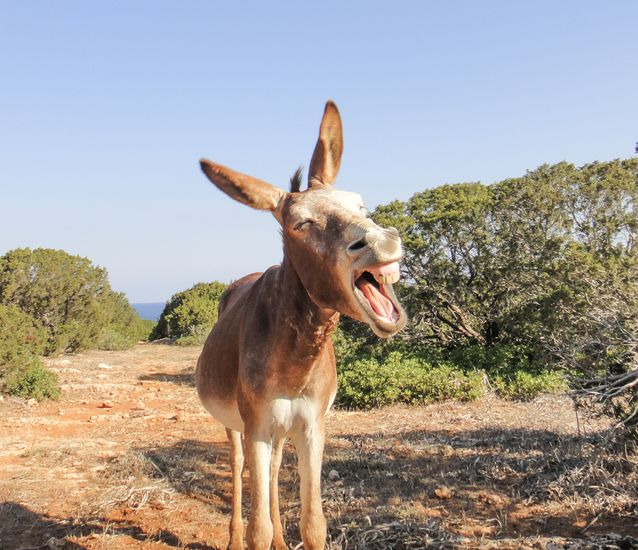donkey: (195, 91, 414, 550)
